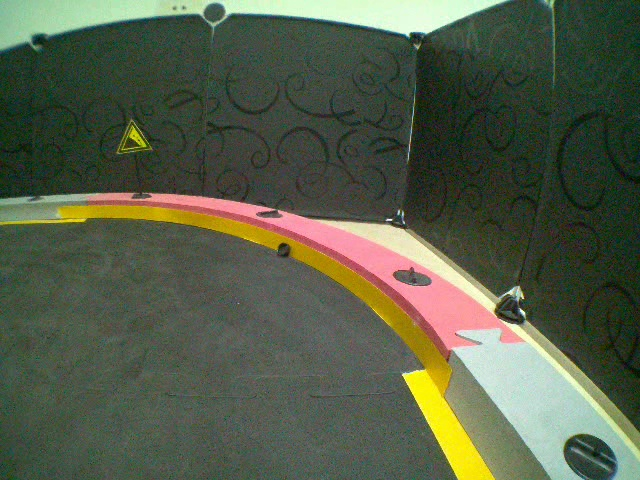fast: (113, 118, 155, 155)
